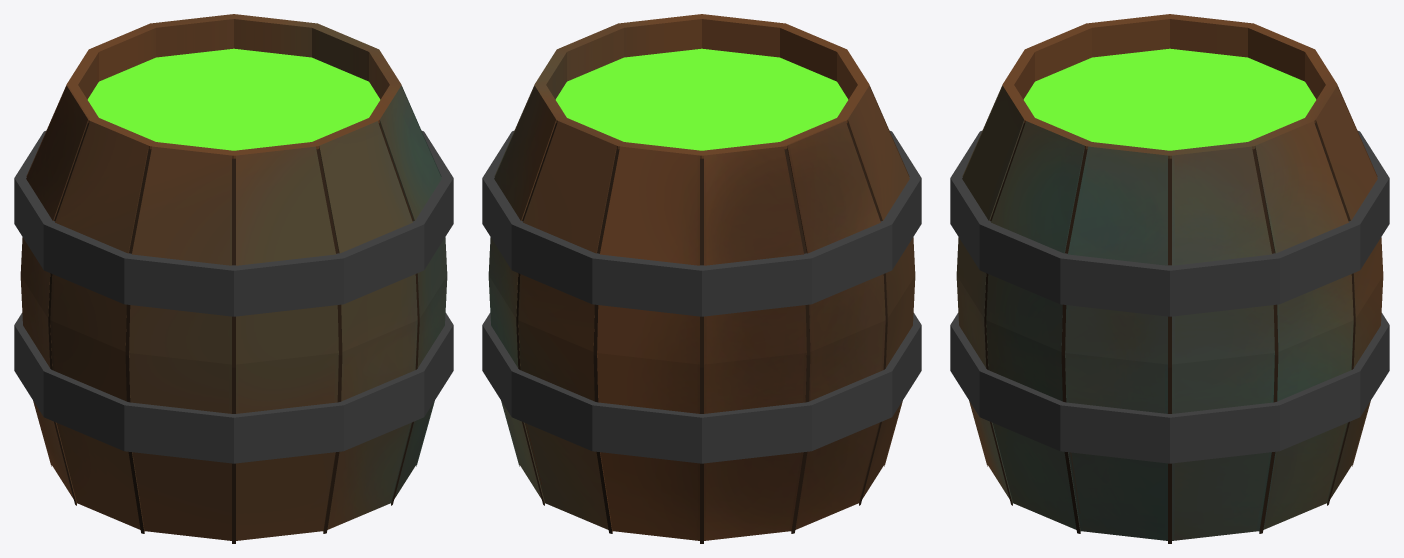
The model's file is GlowingBarrel.glb.
3 renders of one model, left to right at view 1: azimuth 30°, elevation 25°; view 2: azimuth 150°, elevation 25°; view 3: azimuth 270°, elevation 25°, orthographic.
Visible parts, largest first — view 1: Cylinder, Cylinder.002; view 2: Cylinder, Cylinder.002; view 3: Cylinder, Cylinder.002.
Boxes of the visible parts, x1=… form: Cylinder: x1=20, y1=14, x2=447, y2=543; Cylinder.002: x1=14, y1=130, x2=453, y2=463; Cylinder: x1=488, y1=14, x2=915, y2=543; Cylinder.002: x1=482, y1=130, x2=921, y2=463; Cylinder: x1=956, y1=14, x2=1383, y2=543; Cylinder.002: x1=950, y1=130, x2=1389, y2=463.
Size of the model in its own units: 2.1 by 2.02 by 2.1.
4 materials, 2 textured.
